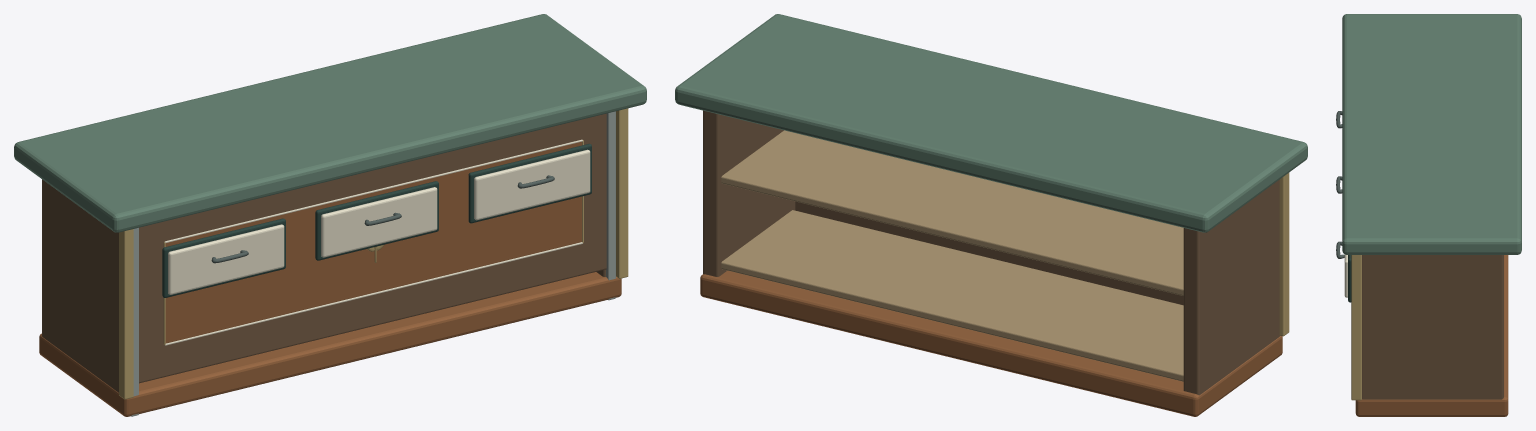
The model's file is counter.glb.
3 views of the same model, side by side, from view 1: azimuth 30°, elevation 25°; view 2: azimuth 150°, elevation 25°; view 3: azimuth 270°, elevation 25° (orthographic). The views are drawn at different scales.
Visible parts, largest first — view 1: Top, Front, Recessed_panel, Plinth, Side, Drawer_face.002, Drawer_face, Drawer_face.001, Corner_guard, Corner_guard.001, Reinforced_corner.001, Drawer_recess.002 (+5 smaller); view 2: Top, Rear_service_shelf, Rear_service_shelf.001, Plinth, Side, Side.001, Front, Corner_guard; view 3: Top, Side.001, Plinth, Corner_guard.001, Drawer_recess.002.
Boxes of the visible parts, left/top/right/bottom form: Top: left=14, top=14, right=646, bottom=232; Front: left=139, top=113, right=606, bottom=383; Recessed_panel: left=164, top=142, right=581, bottom=343; Plinth: left=39, top=272, right=621, bottom=416; Side: left=42, top=179, right=118, bottom=392; Drawer_face.002: left=474, top=149, right=590, bottom=220; Drawer_face: left=168, top=224, right=284, bottom=294; Drawer_face.001: left=321, top=187, right=437, bottom=257; Corner_guard: left=119, top=229, right=133, bottom=399; Corner_guard.001: left=616, top=108, right=628, bottom=278; Reinforced_corner.001: left=606, top=111, right=615, bottom=300; Drawer_recess.002: left=468, top=143, right=591, bottom=223; Top: left=675, top=14, right=1307, bottom=232; Rear_service_shelf: left=721, top=210, right=1183, bottom=381; Rear_service_shelf.001: left=721, top=130, right=1183, bottom=295; Plinth: left=700, top=270, right=1282, bottom=416; Side: left=1183, top=180, right=1279, bottom=395; Side.001: left=703, top=110, right=795, bottom=276; Front: left=795, top=201, right=1183, bottom=305; Corner_guard: left=1279, top=173, right=1289, bottom=336; Top: left=1342, top=14, right=1521, bottom=254; Side.001: left=1362, top=255, right=1503, bottom=399; Plinth: left=1355, top=255, right=1508, bottom=416; Corner_guard.001: left=1351, top=255, right=1361, bottom=400; Drawer_recess.002: left=1348, top=255, right=1351, bottom=302.
Size of the model in its own units: 3 by 1.14 by 1.03.
